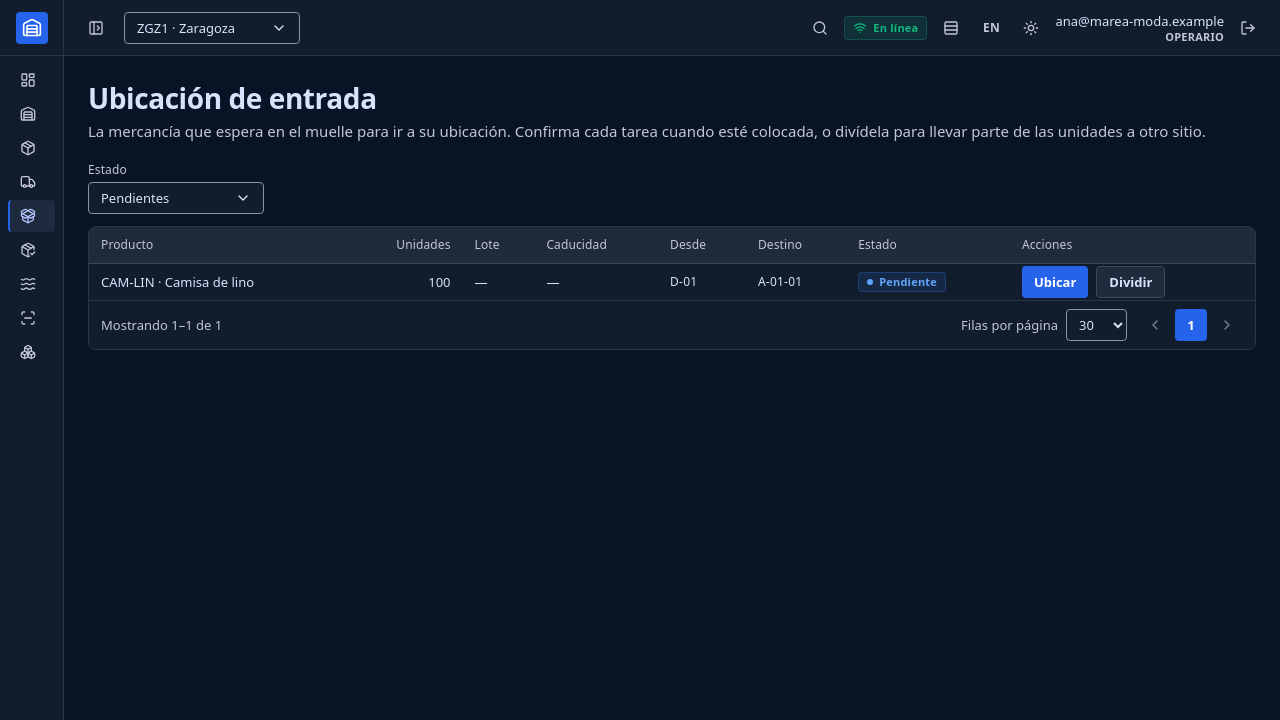
Test: the putaway tasks › shows what the API refuses inside the dialog
This screenshot has width=1280, height=720.
Click the button with aria-label "Ubicar CAM-LIN · Camisa de lino" at {"x": 1055, "y": 282}, box [1022,266,1088,298]
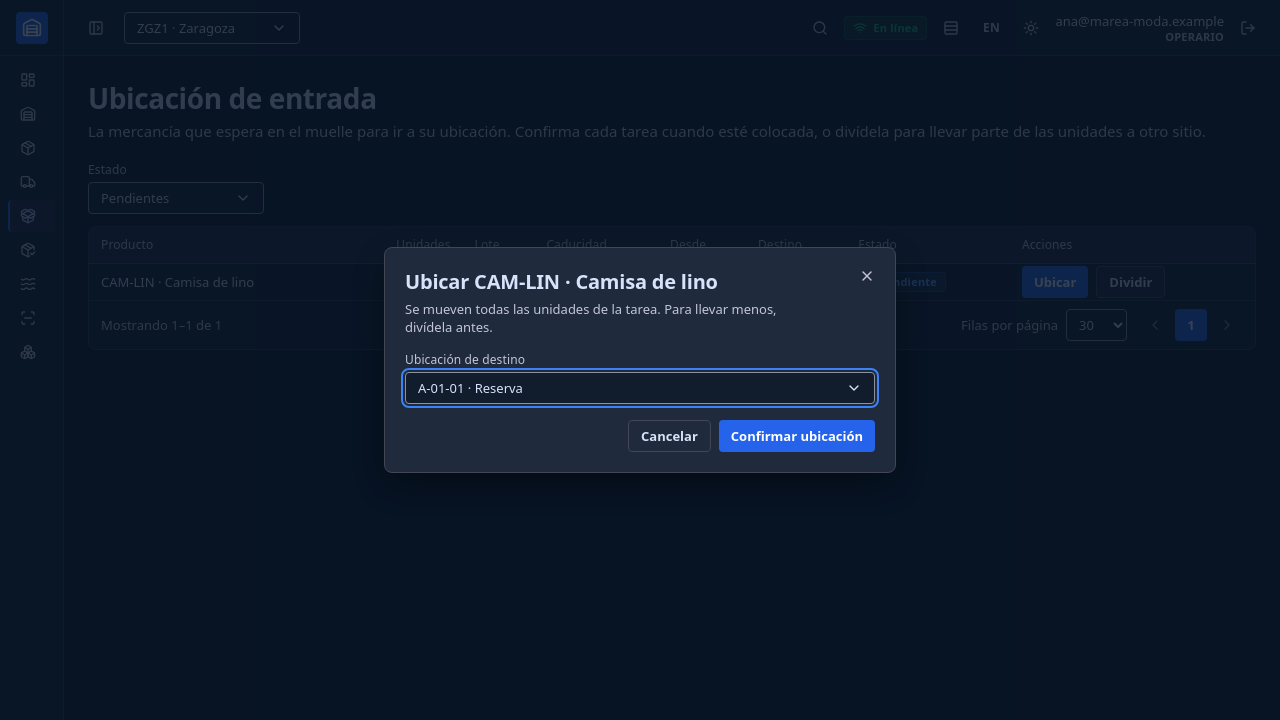
Click the button "Confirmar ubicación" at {"x": 797, "y": 436}, box [719,420,875,452]
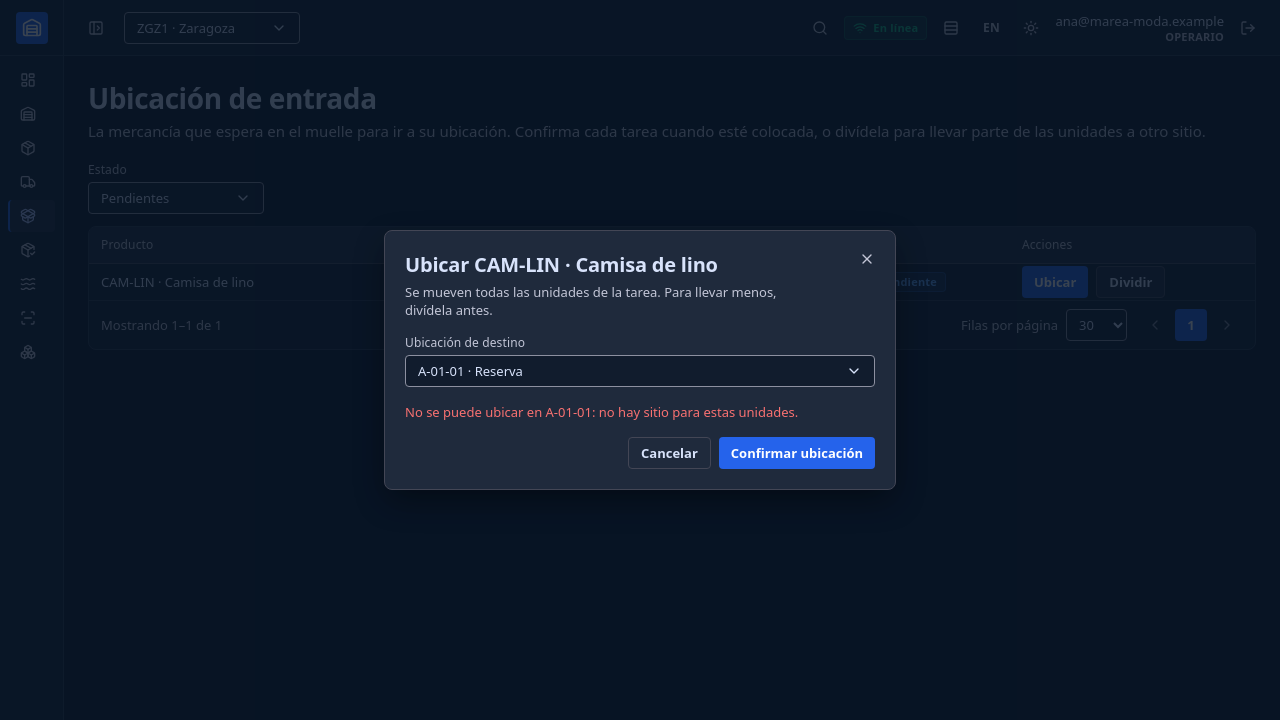
Expected: the message does not show "l-A-01-01", [405,403,798,421]
Expected: the dialog is shown, [384,230,896,490]
Expected: the message reads "No se puede ubicar en A-01-01: no hay sitio para estas unidades.", [405,403,798,421]
